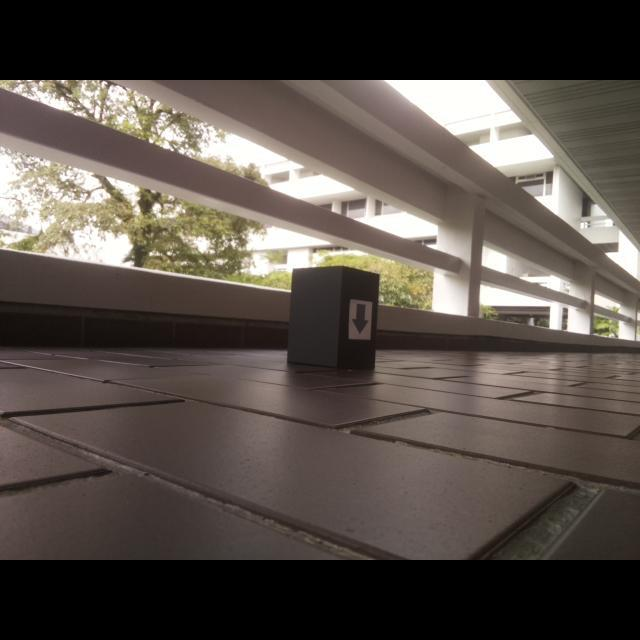DOWN: (351, 304, 370, 335)
